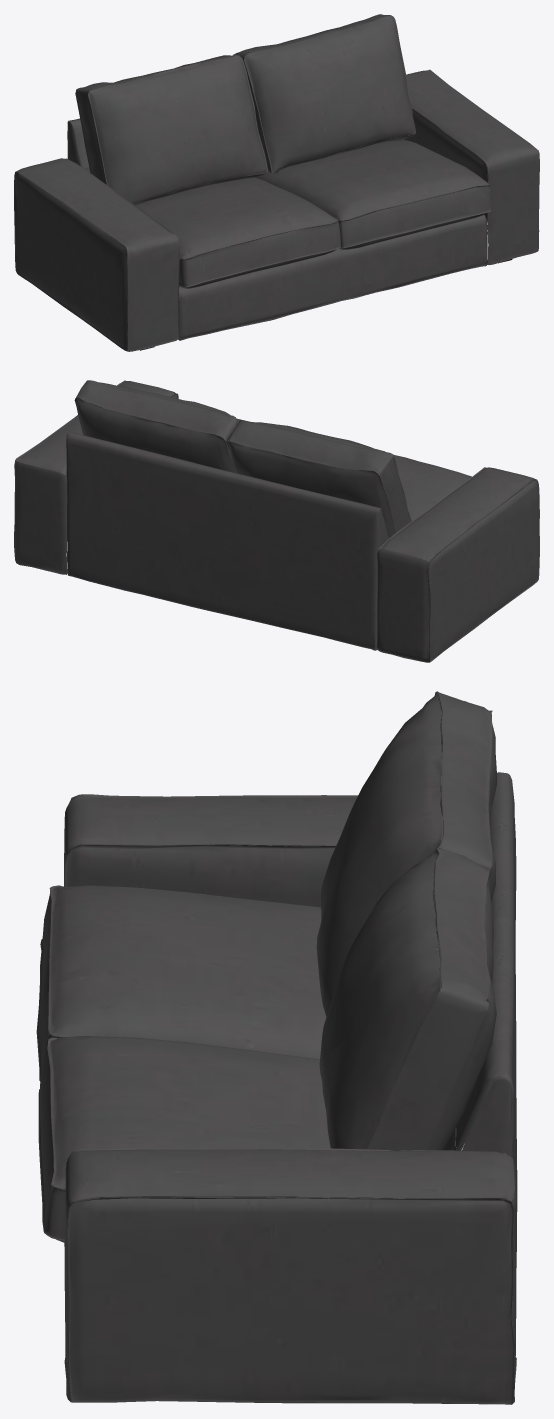
File: cover-tallmyra-srednioszary.glb
3 renders of one model, top to bottom at view 1: azimuth 30°, elevation 25°; view 2: azimuth 150°, elevation 25°; view 3: azimuth 270°, elevation 25°, orthographic. The views are drawn at different scales.
Visible parts, largest first — view 1: Mesh_0; view 2: Mesh_0; view 3: Mesh_0.
Boxes of the visible parts, x1,y1,x2,y2 form: Mesh_0: (14,14,539,351); Mesh_0: (14,380,539,662); Mesh_0: (36,691,517,1404).
Size of the model in its own units: 1.9 by 0.8299 by 0.9501.
Materials: 2 (2 with a texture image).
